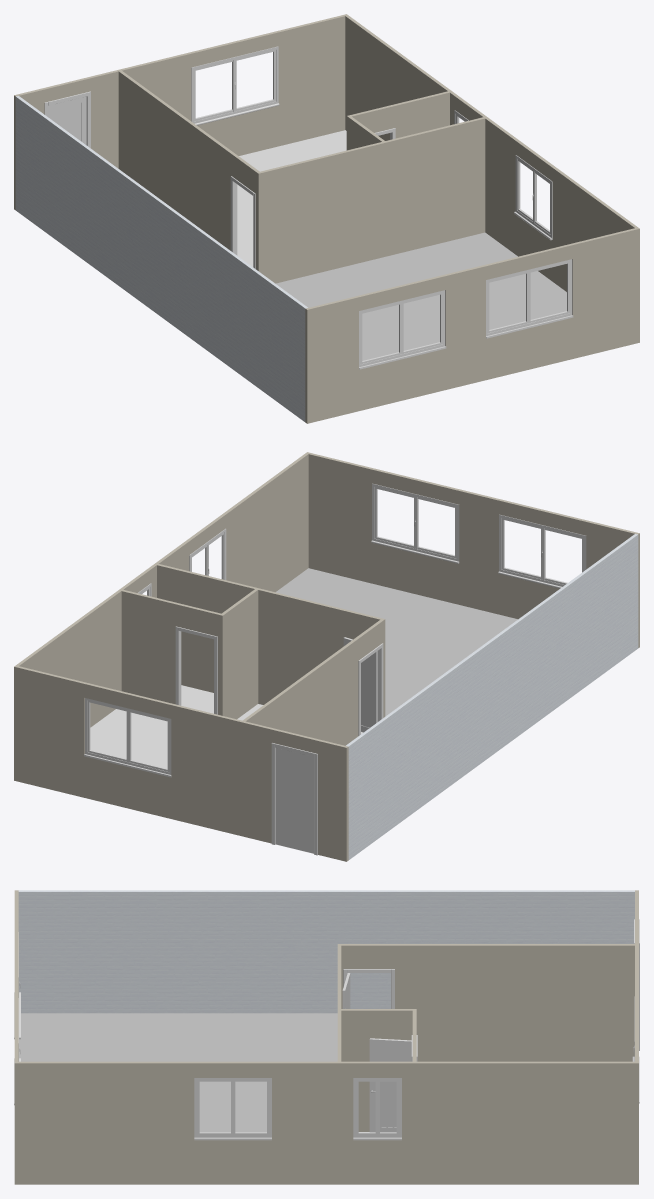
Rendered from Structure.dae.
The picture shows the model from 3 angles, top to bottom: view 1: azimuth 30°, elevation 25°; view 2: azimuth 150°, elevation 25°; view 3: azimuth 270°, elevation 25°; orthographic projection. The views are drawn at different scales.
Visible parts, largest first — view 1: Cube, Plane.001, 8.0.249.002, Plane.002, Door.001, DoorFrame; view 2: Cube, Plane.001, 8.0.249.002, Plane.002, Door.001, Door, DoorFrame.001, DoorFrame.002, DoorFrame; view 3: Cube, Plane.001, 8.0.249.002, Door.002.
Part boxes in pixels (x1=…): Cube: x1=14, y1=14, x2=639, y2=423; Plane.001: x1=276, y1=232, x2=566, y2=360; 8.0.249.002: x1=191, y1=46, x2=573, y2=369; Plane.002: x1=237, y1=130, x2=346, y2=266; Door.001: x1=48, y1=96, x2=86, y2=144; DoorFrame: x1=230, y1=176, x2=255, y2=268; Cube: x1=14, y1=452, x2=639, y2=861; Plane.001: x1=275, y1=568, x2=517, y2=853; 8.0.249.002: x1=84, y1=483, x2=586, y2=777; Plane.002: x1=90, y1=685, x2=363, y2=768; Door.001: x1=275, y1=748, x2=313, y2=853; Door: x1=343, y1=637, x2=377, y2=732; DoorFrame.001: x1=271, y1=743, x2=317, y2=855; DoorFrame.002: x1=175, y1=626, x2=217, y2=714; DoorFrame: x1=358, y1=643, x2=383, y2=735; Cube: x1=14, y1=890, x2=638, y2=1184; Plane.001: x1=19, y1=1013, x2=337, y2=1132; 8.0.249.002: x1=14, y1=932, x2=639, y2=1140; Door.002: x1=369, y1=1038, x2=411, y2=1132.
Bounding box in the file's own units: 8.41 × 12.86 × 2.76.
